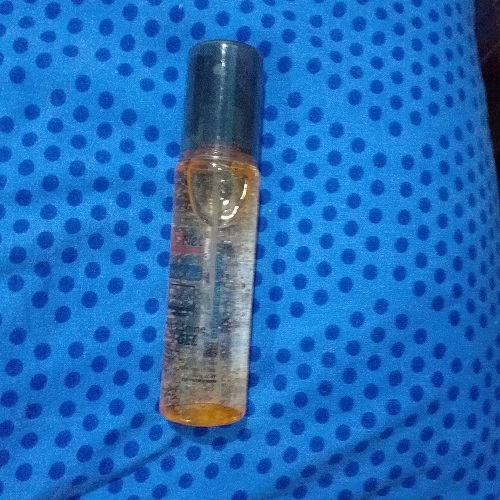spray: (156, 33, 270, 439)
